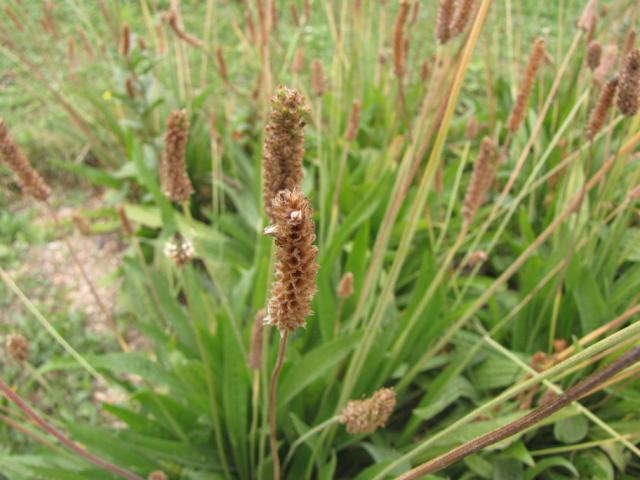buckhorn plantain: (254, 77, 339, 338)
